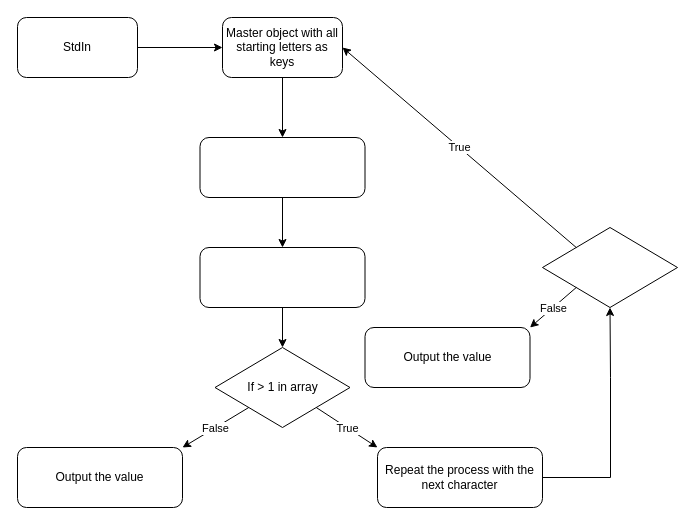
The diagram is 695 pixels wide and 525 high, and some of its shapes have lost their labels. The box of each missing label's shape, as (x1, y1, x2, y2) in pixels:
Each value of the master object is an array: (199, 136, 365, 198)
If the character exists: (542, 226, 678, 308)
Loop through the alpabet using the it as the key to the main object: (199, 246, 365, 308)
